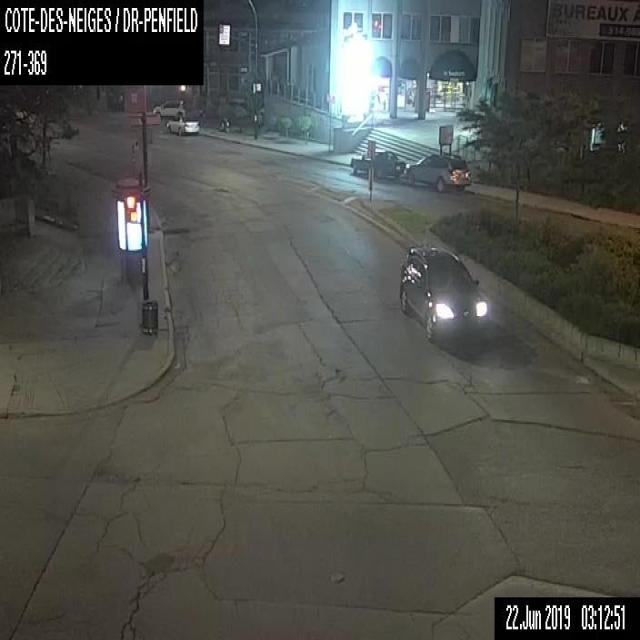vehicle: (397, 243, 489, 341), (405, 152, 471, 193), (349, 147, 405, 177), (151, 98, 184, 118), (166, 115, 199, 135)
